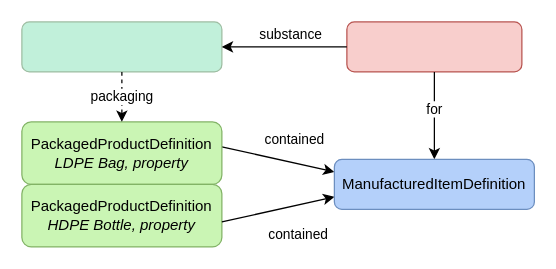
The diagram is 556 pixels wide and 269 high, and some of its shapes have lost their labels. Each missing label, with the centre of its shape:
Ingredient: the point at 434,46
SubstanceDefinition Stelbatolol: the point at 121,46
